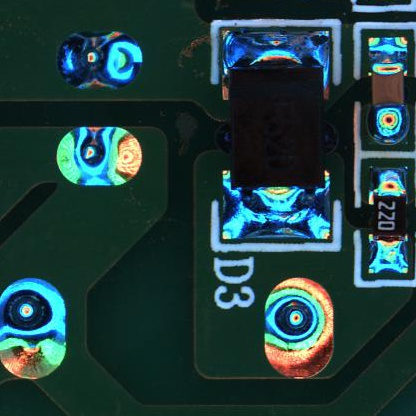spot: (254, 266, 351, 388), (38, 110, 152, 197), (45, 18, 151, 103)
